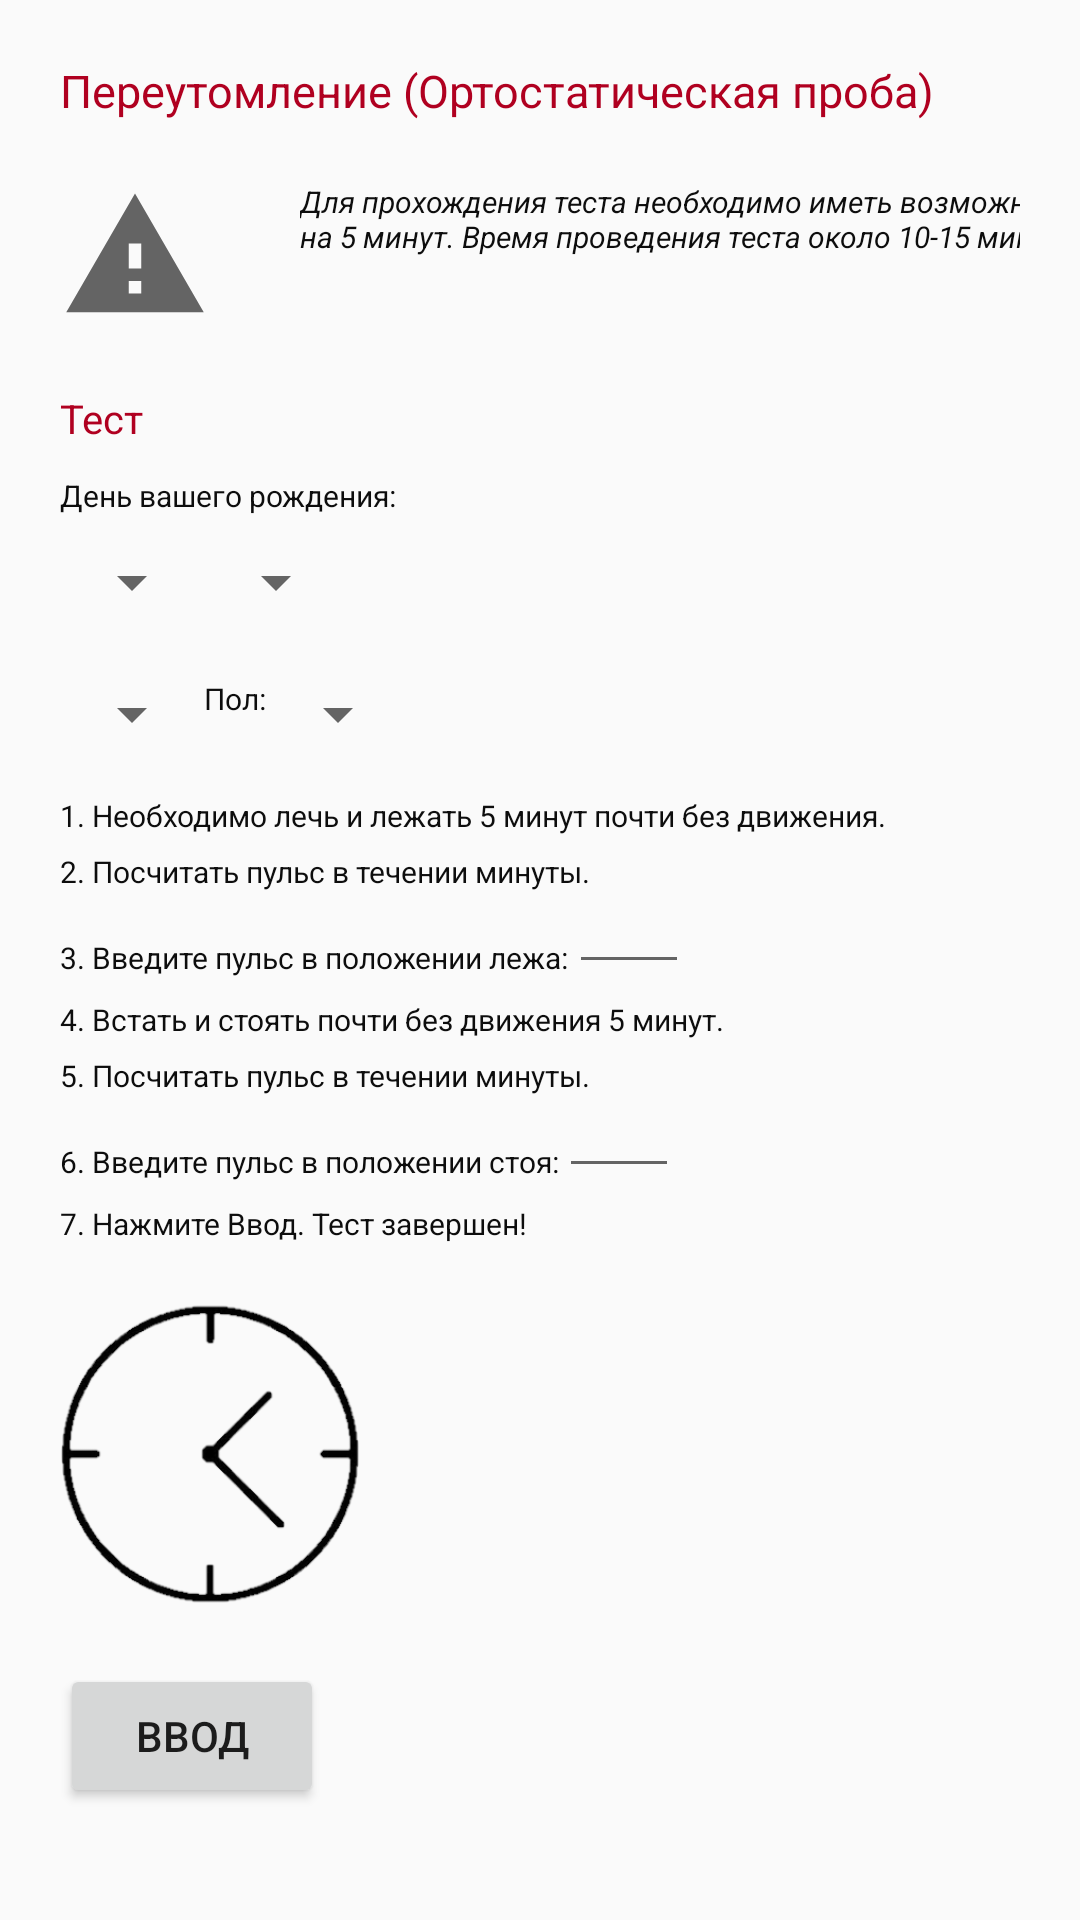

Icons on this 1080px x 1920px Android screen, each with the point to tap as point (x, y):
clock: point (210, 1454)
